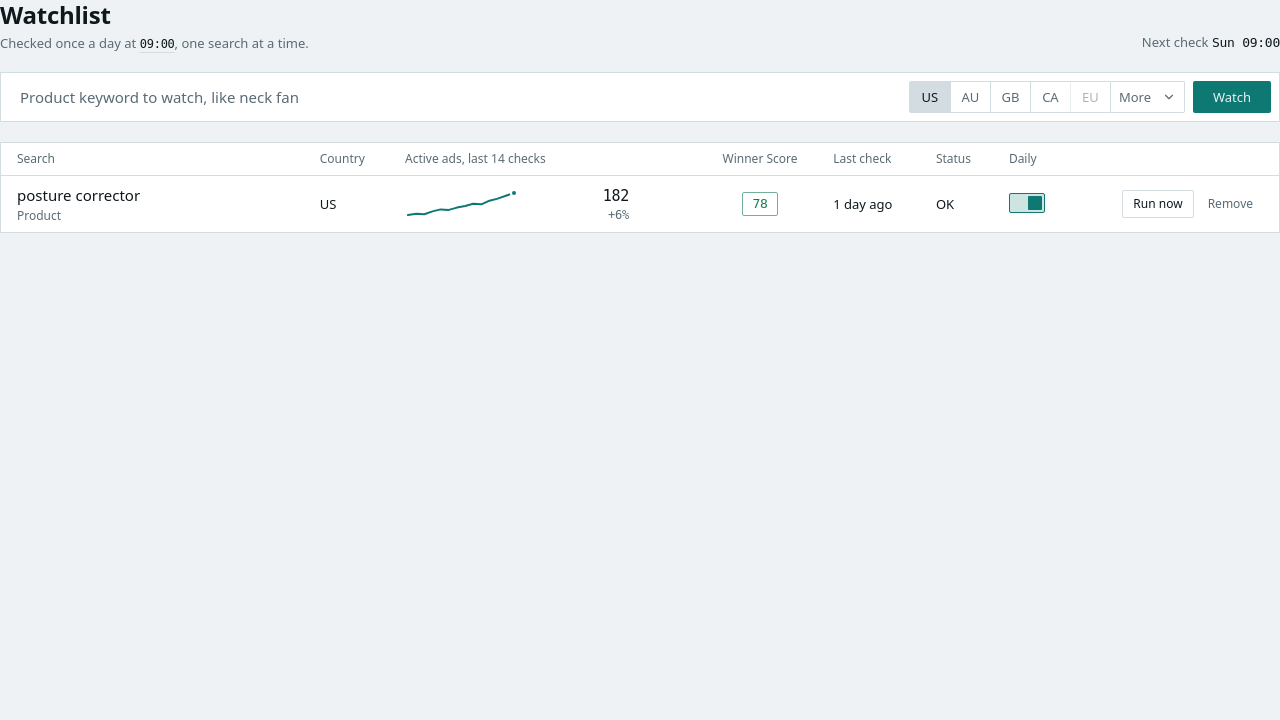
Scenario: WatchlistPage › remove dialog takes focus, closes on Escape and gives focus back
The width and height of the screenshot is (1280, 720).
Click the button with aria-label "Remove posture corrector": {"x": 1230, "y": 204} [1198,190,1263,218]
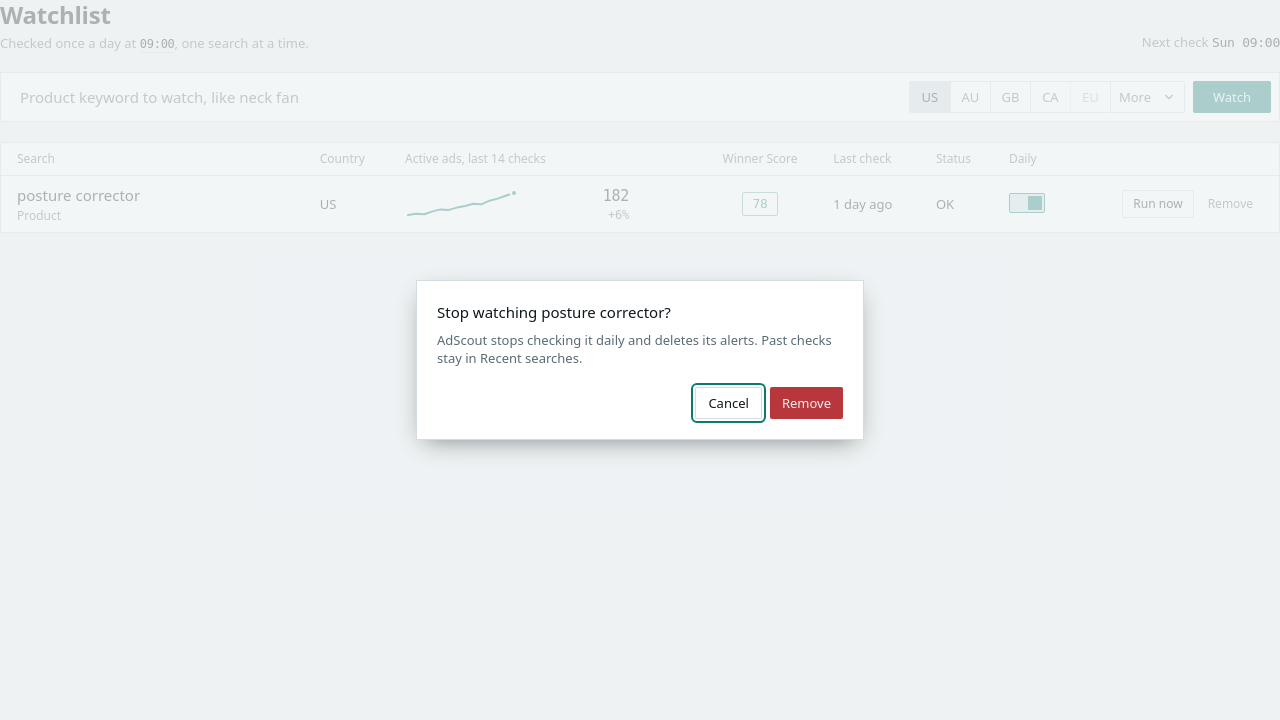
Press Escape
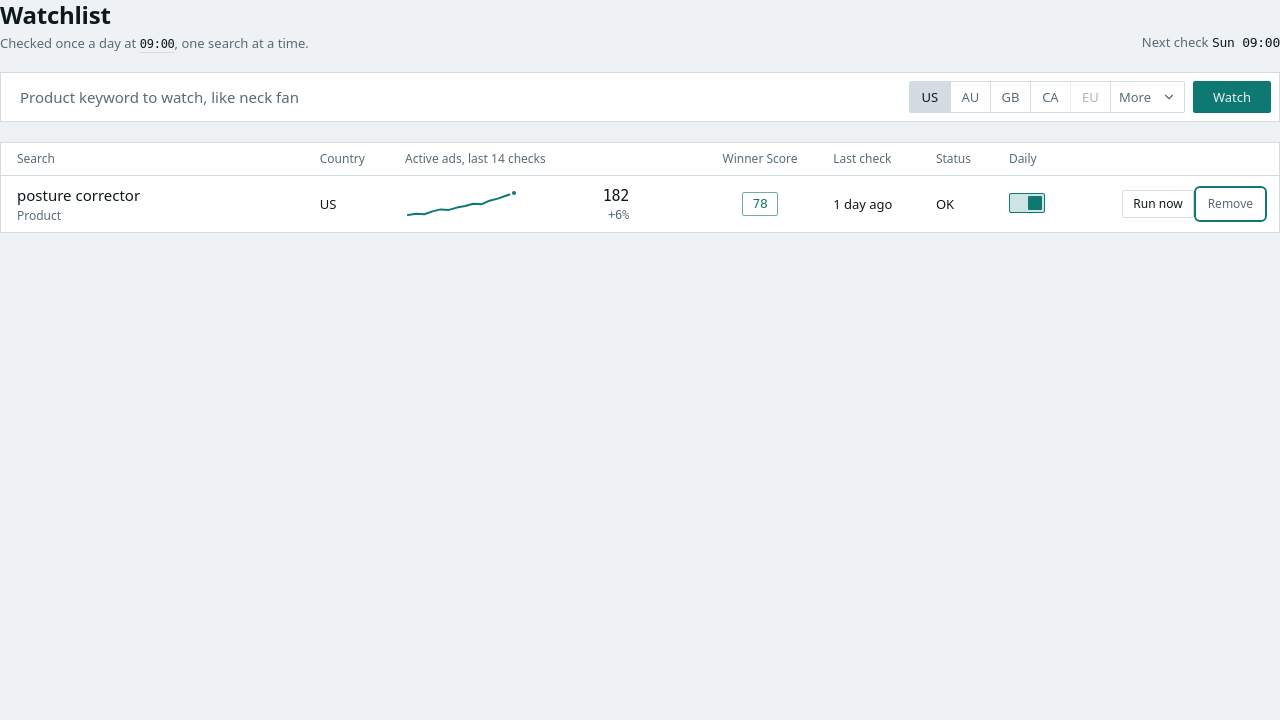
Result: the dialog is gone
